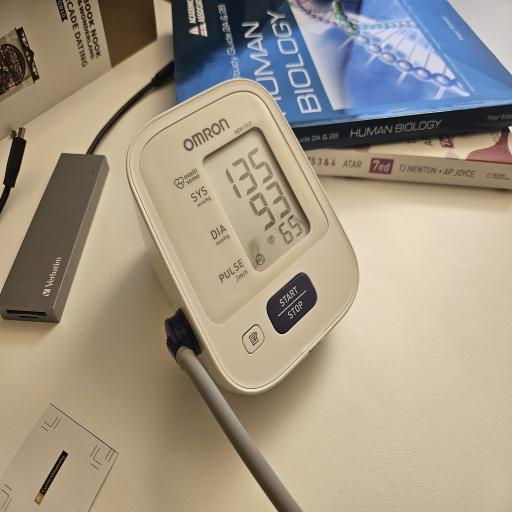blood pressure monitor: (125, 78, 360, 394)
